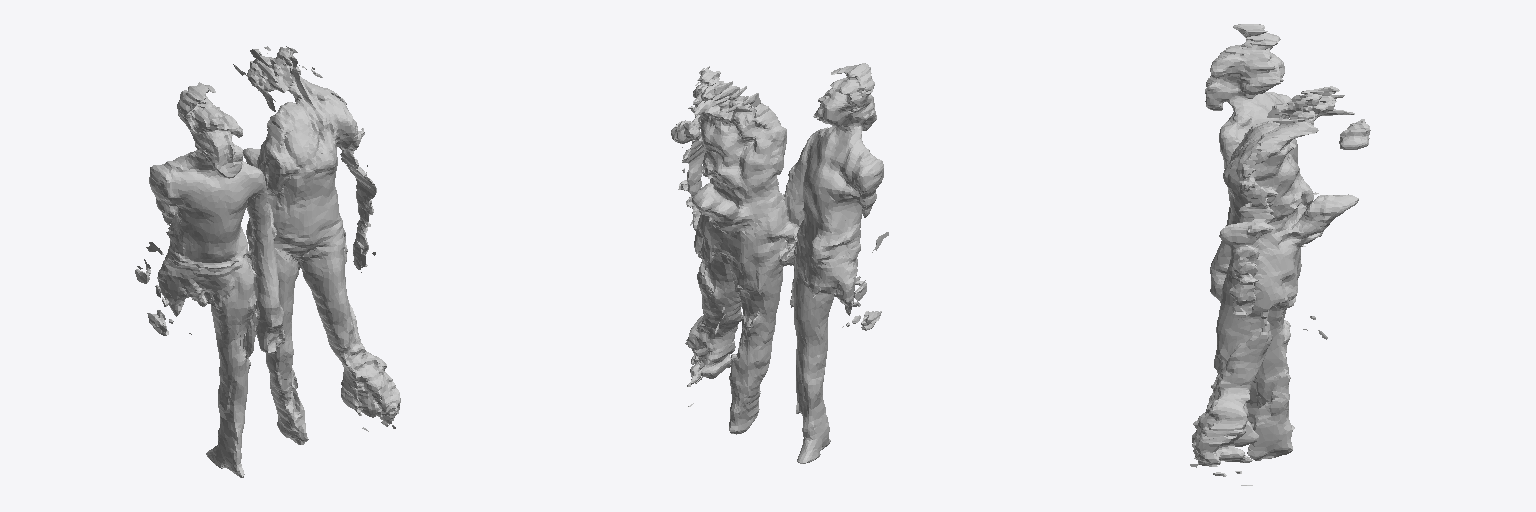
File: uno.obj
3 views of the same model, side by side, from view 1: azimuth 30°, elevation 25°; view 2: azimuth 150°, elevation 25°; view 3: azimuth 270°, elevation 25° (orthographic).
Parts seen in each view (by area): view 1: uno; view 2: uno; view 3: uno.
Boxes of the visible parts, <box> form: uno: <box>135,46,400,477</box>; uno: <box>671,63,888,463</box>; uno: <box>1190,24,1370,485</box>.
Size of the model in its own units: 3.45 by 6 by 2.51.